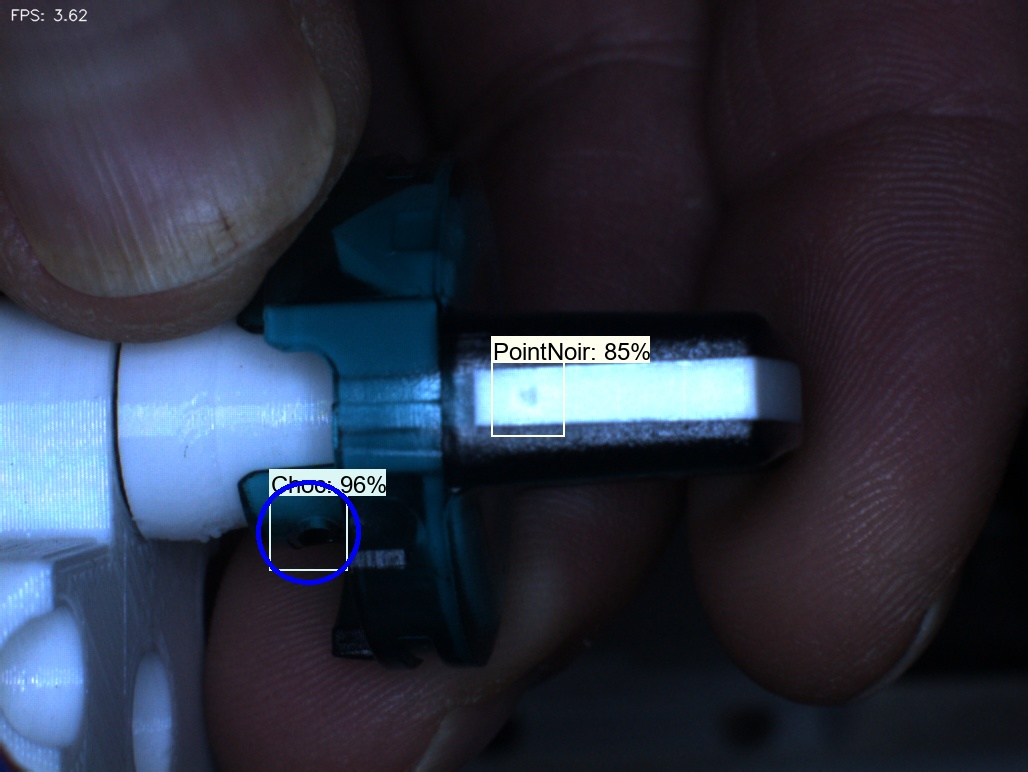DentOk: (313, 192, 380, 295)
